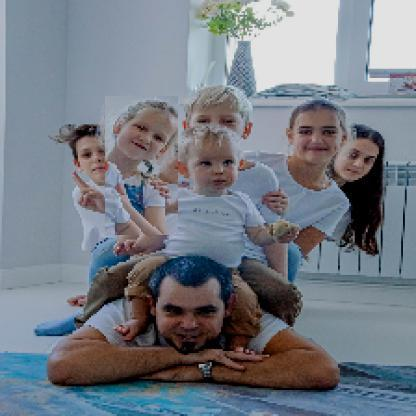child: (111, 124, 301, 351), (106, 97, 180, 238)
